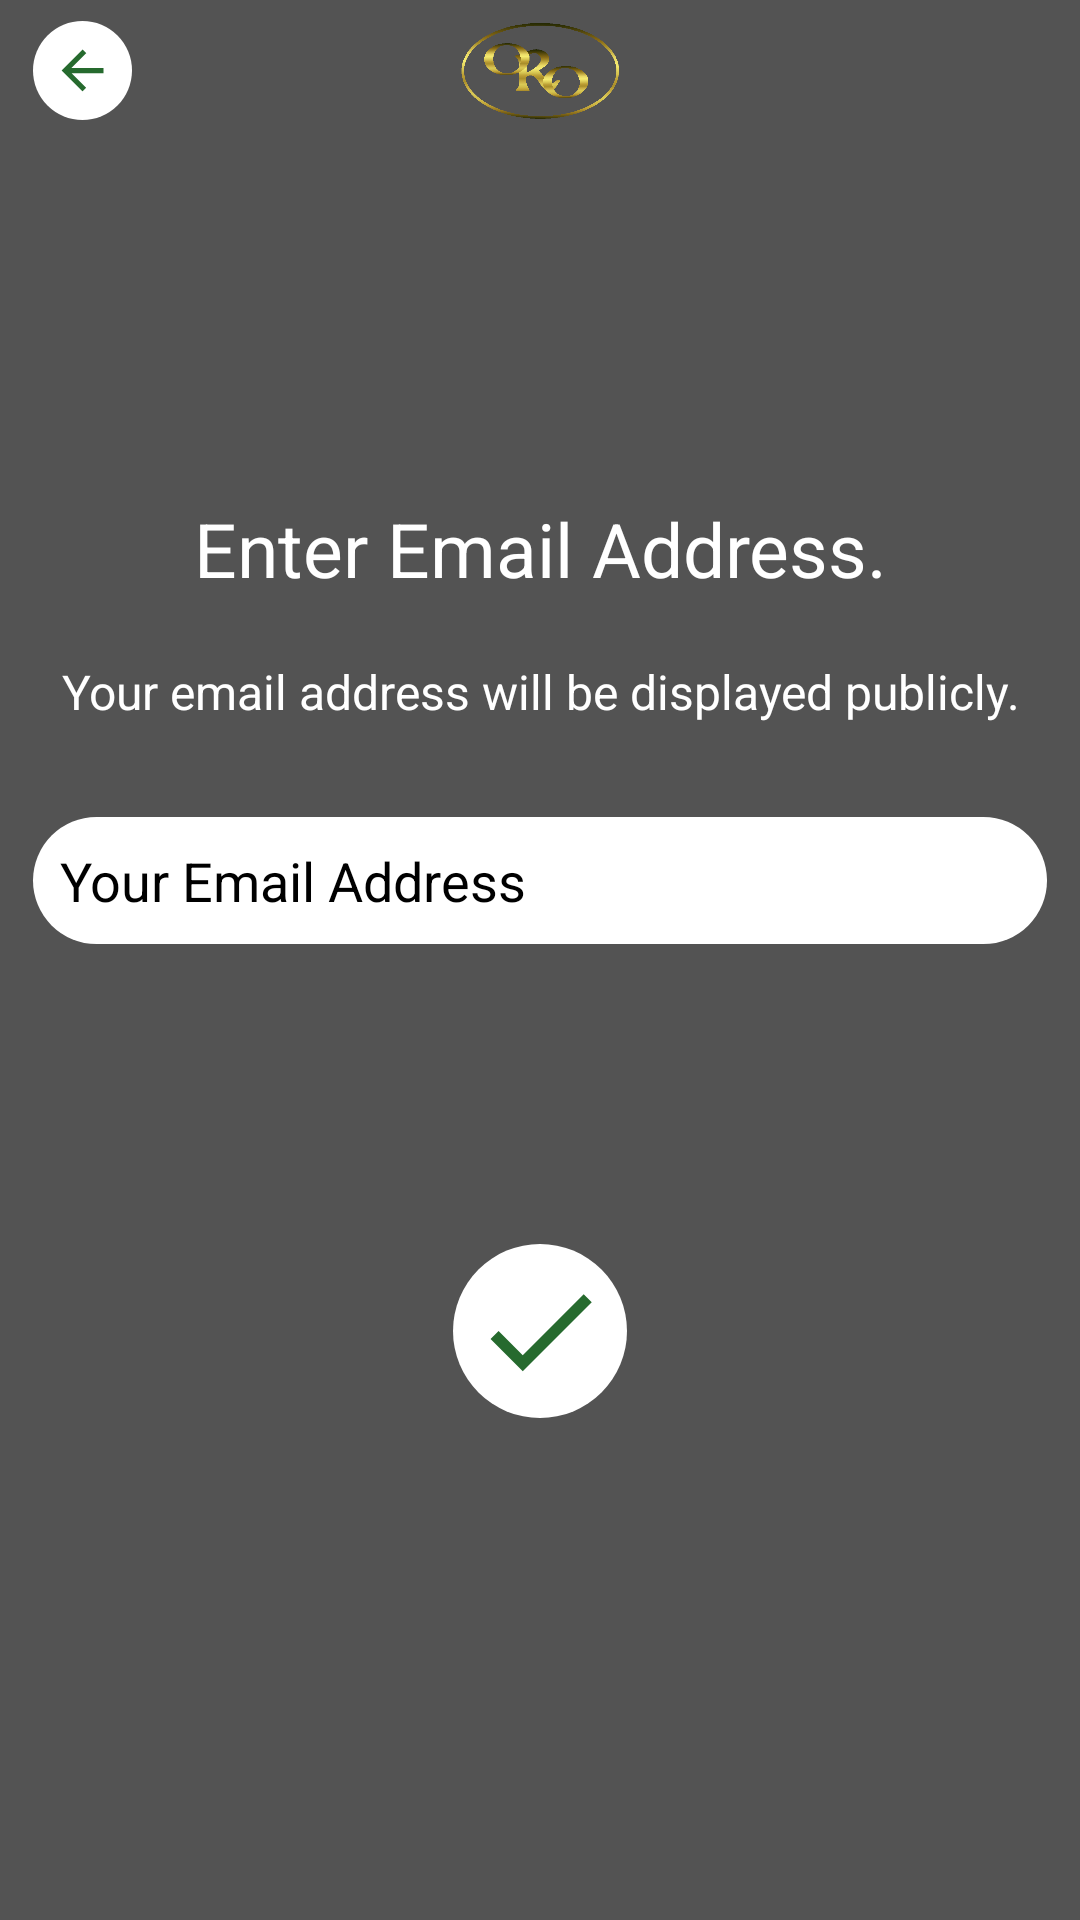

Named icons in this screenshot (1080w x 1920h) and their bounding boxes, {"left": x1, "top": y1, "right": x2, "bottom": y2}:
arrow back: {"left": 33, "top": 21, "right": 132, "bottom": 120}
done: {"left": 453, "top": 1244, "right": 627, "bottom": 1418}
